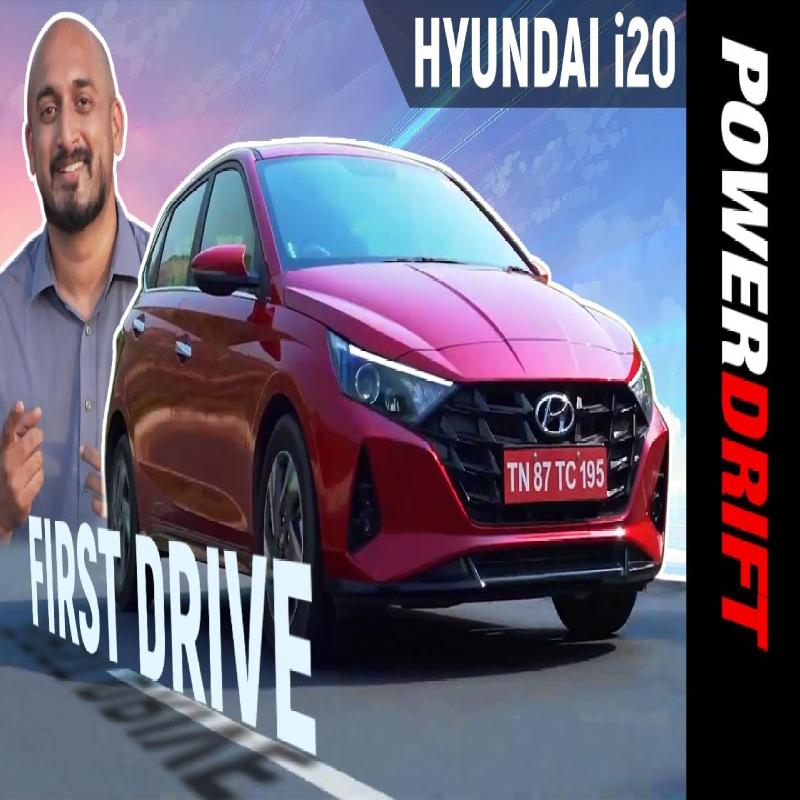car: (114, 134, 663, 615)
